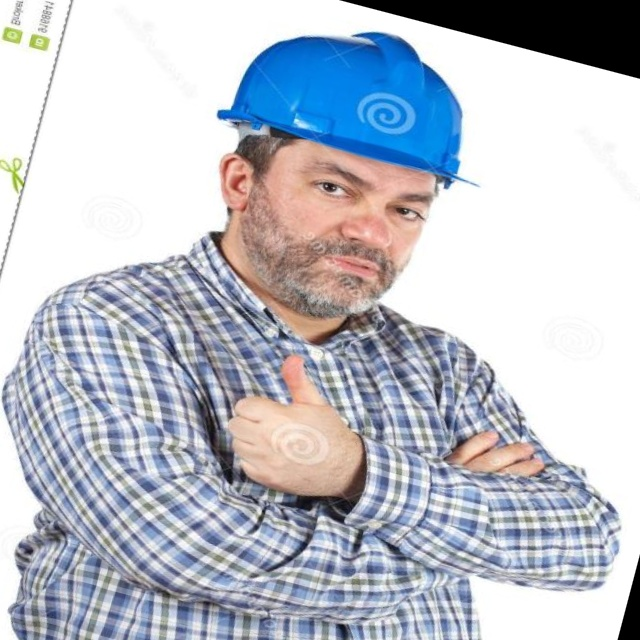Con_Casco: (182, 0, 488, 321)
